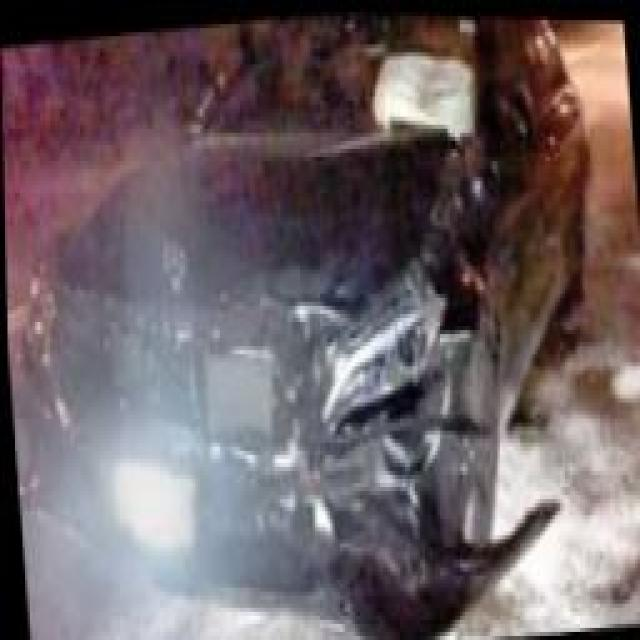Bonnet: (34, 115, 459, 310)
Bumper: (9, 379, 552, 640)
Light: (309, 271, 454, 425)
